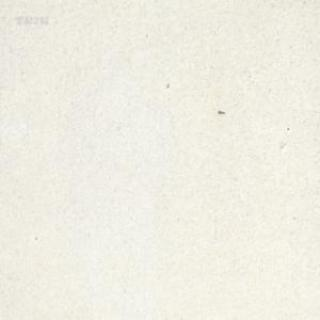Nailtrack_idkeyframe: (217, 108, 224, 114)
